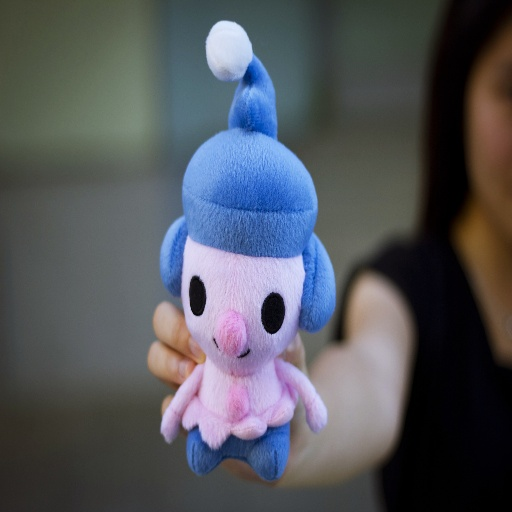hand: (145, 282, 205, 425)
